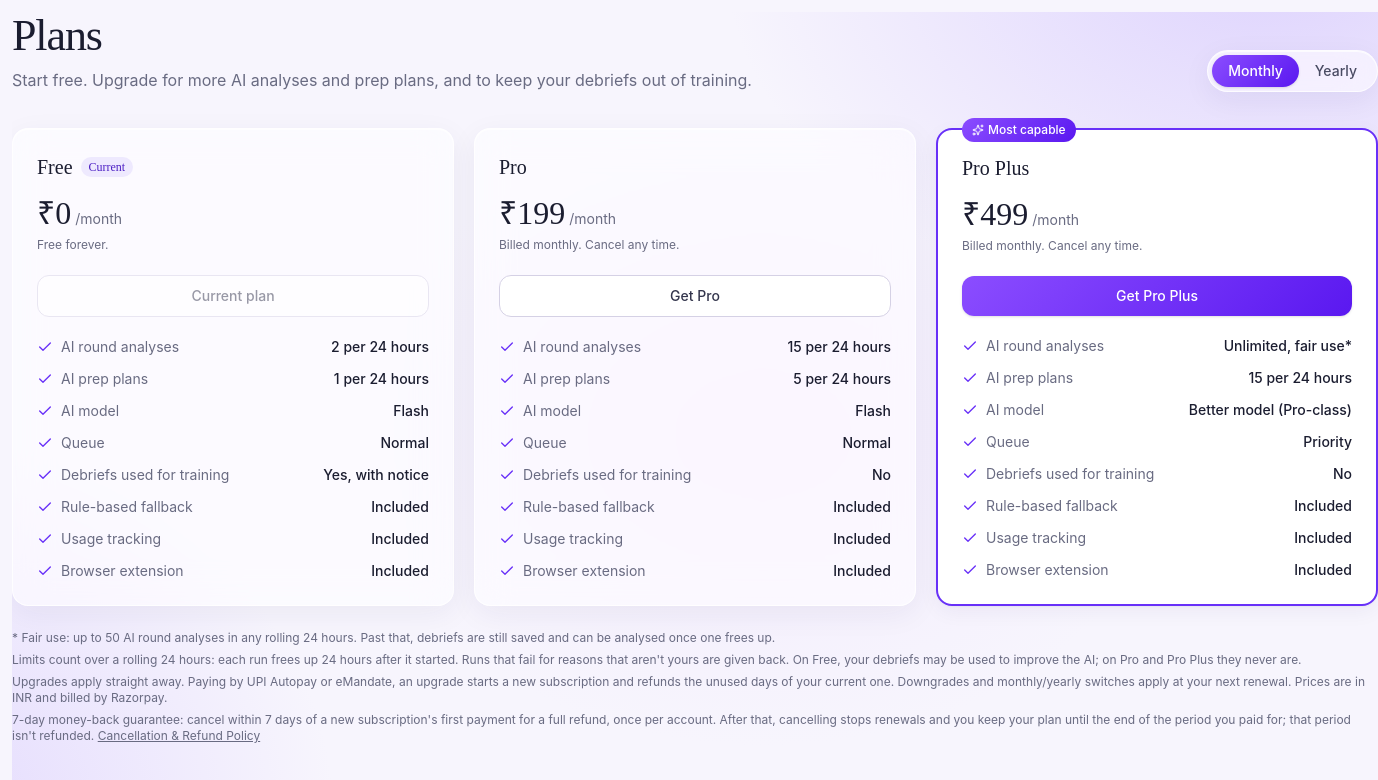
Test: pricing page › switches to yearly prices
Expected: the heading "Pro Plus" is shown, [962,157,1029,179]
Click the radio button labelled "Yearly": click(1336, 71) [1299,55,1373,87]
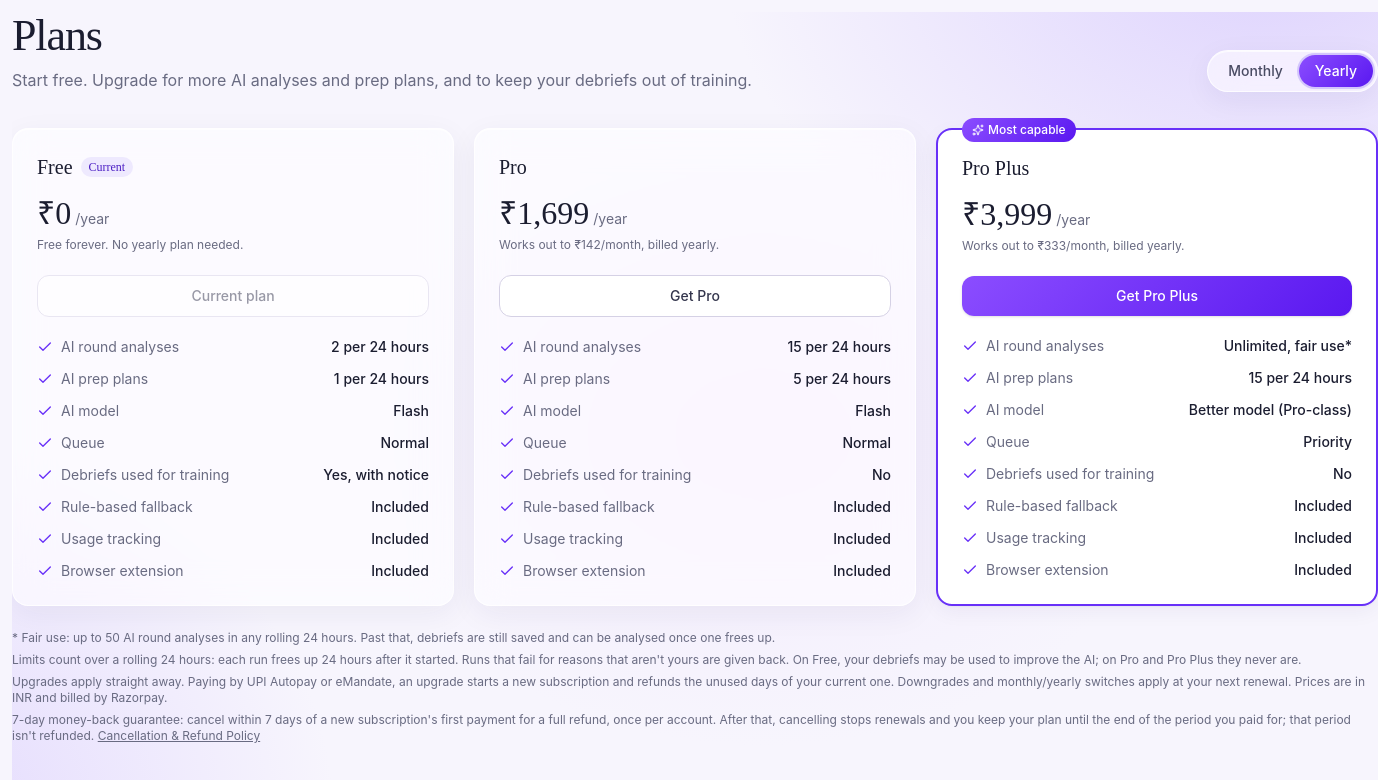
Expected: the text "₹1,699" is shown, [499,193,589,233]
Expected: the text "₹3,999" is shown, [962,194,1052,234]
Expected: the text "Free forever. No yearly plan needed." is shown, [37,237,243,252]
